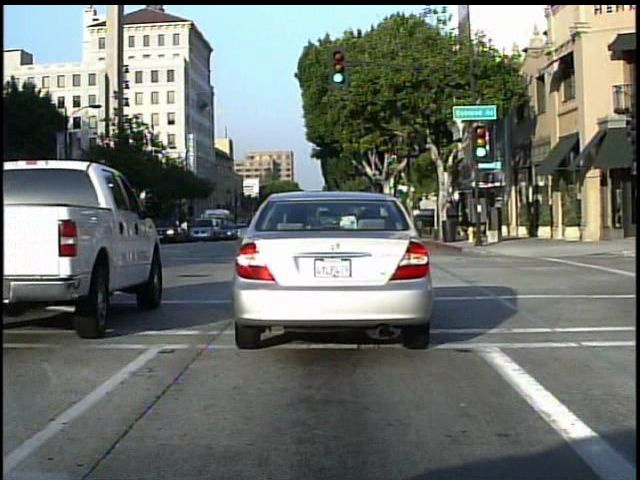person: (85, 206, 115, 253)
